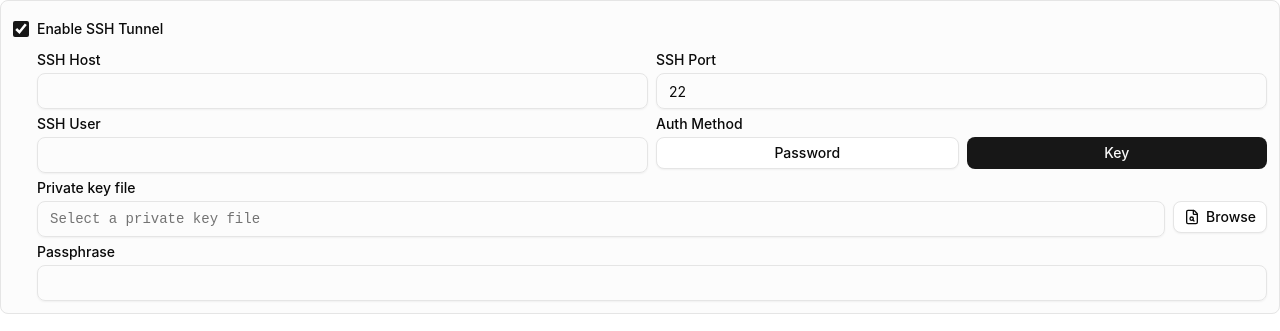
connection file fields › fills SSH private key paths from the file picker
What coordinates should you click on to do the following:
click the button "Browse"
I would click on:
 (1220, 217)
Its box is x1=1173 y1=201 x2=1267 y2=233.
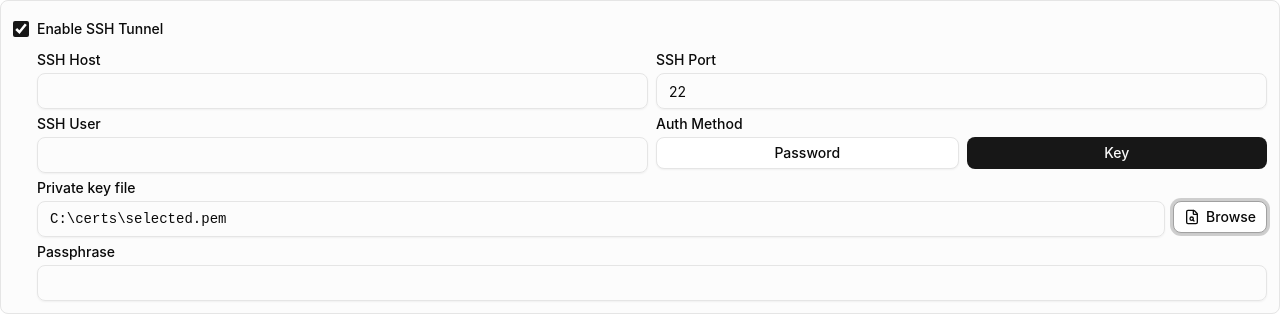
Check: the field labelled "Private key file" holds "C:\\certs\\selected.pem", box x1=37 y1=201 x2=1165 y2=237
